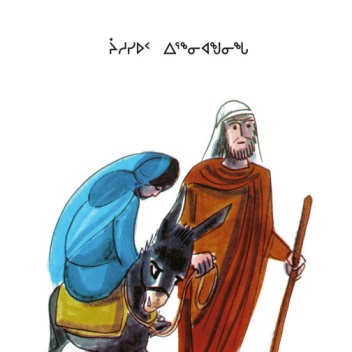inuktitut: (104, 32, 250, 58)
